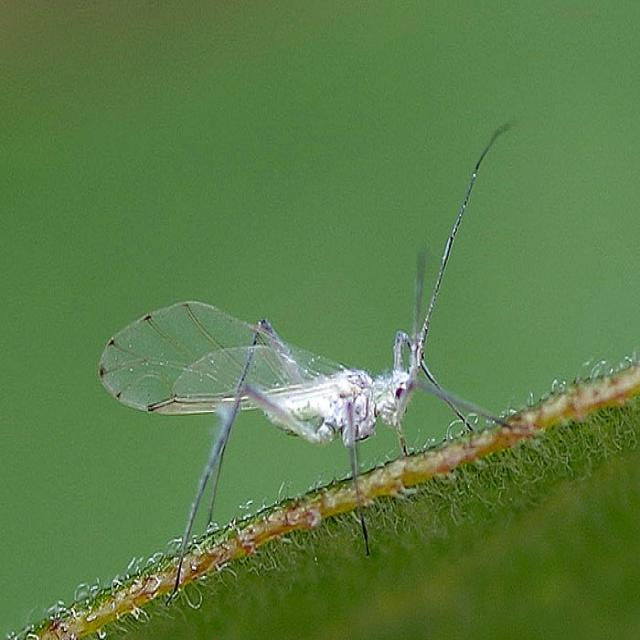Aphid-Grown-have wings-: (72, 199, 493, 534)
